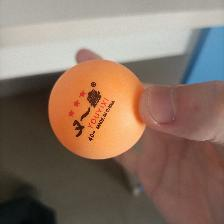YellowBall: (47, 60, 147, 161)
